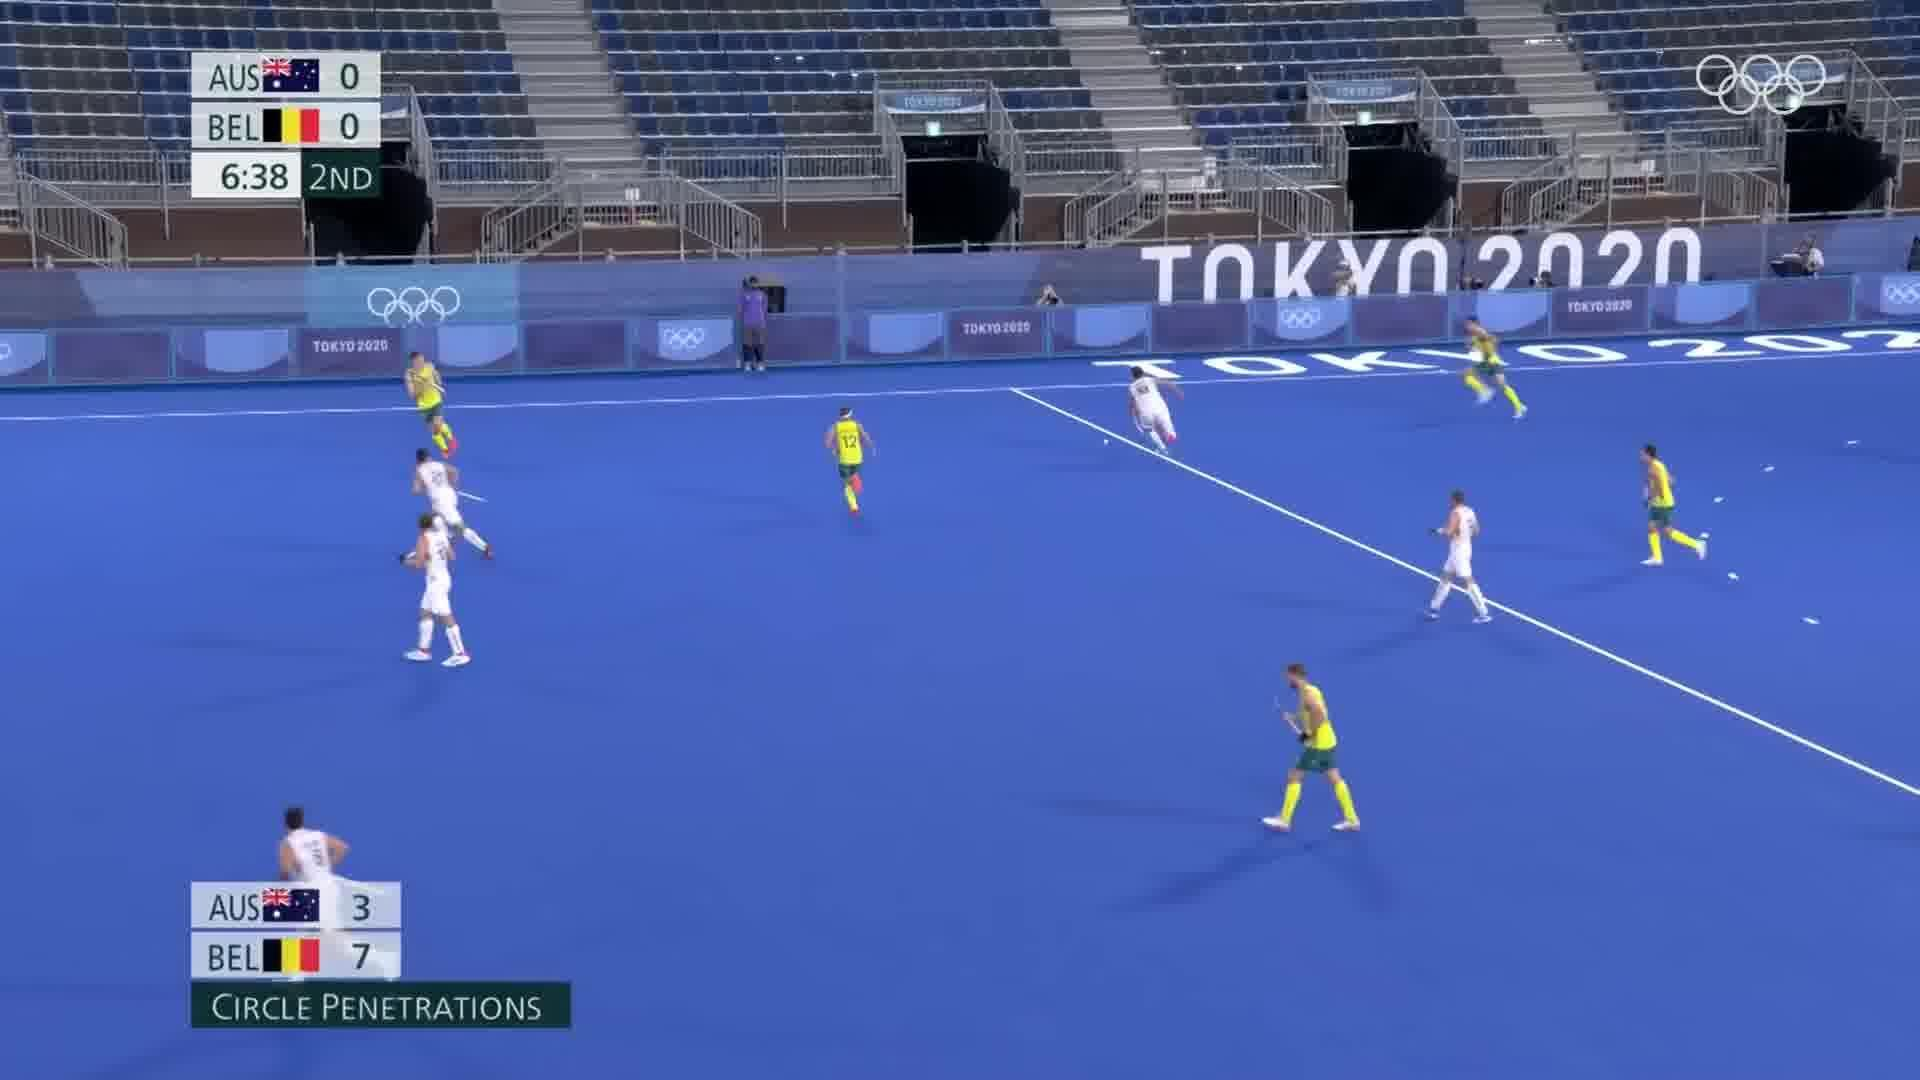ball: (1095, 436, 1113, 450)
